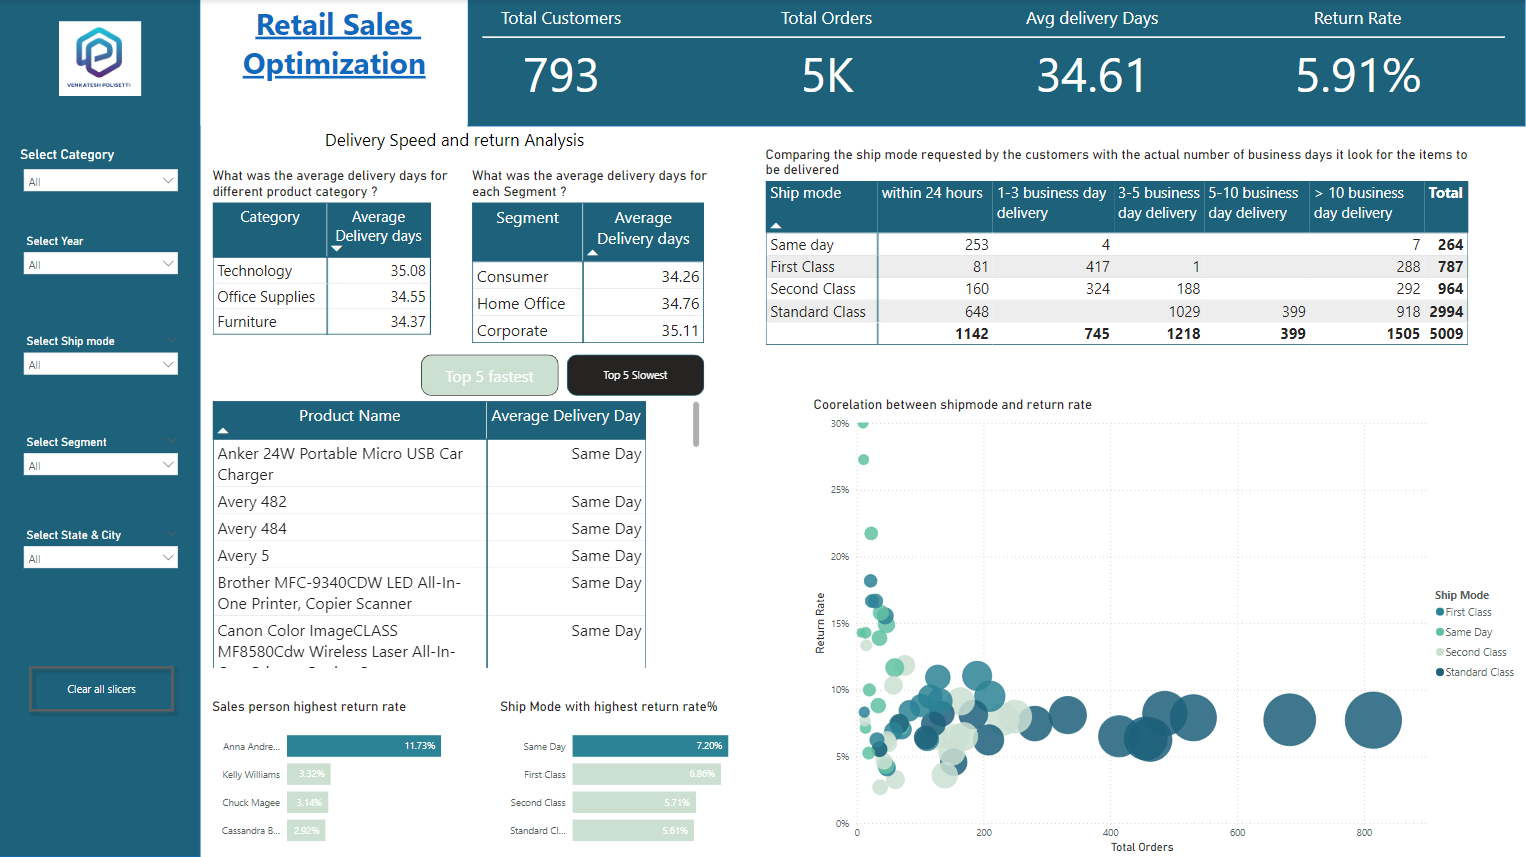

This screenshot's page, from the dashboard's own definition file:
{"tool":"powerbi","page":{"name":"Delivery and Return rate","canvas":[1920,1080],"ordinal":0},"visuals":[{"type":"shape","box":[0,0,254.4,1078.9],"z":0},{"type":"shape","box":[590.5,0,1330,160],"z":1000},{"type":"card","title":"Total Customers","fields":{"Values":["Dax measures.Total Customers"]},"box":[608.7,6.8,197.6,136.3],"z":2000},{"type":"card","title":"Total Orders","fields":{"Values":["Dax measures.Total Orders"]},"box":[942.6,6.8,197.6,136.3],"z":3000},{"type":"card","title":"Avg delivery Days","fields":{"Values":["Dax measures.Avg delivery day"]},"box":[1276.5,6.8,197.6,136.3],"z":4000},{"type":"card","title":"Return Rate","fields":{"Values":["Dax measures.Return Rate"]},"box":[1610.4,6.8,197.6,136.3],"z":5000},{"type":"shape","box":[608.7,38.6,1285.6,20.4],"z":6000},{"type":"pivotTable","title":"What was the average delivery days for different product category ?","fields":{"Values":["Dax measures.Avg delivery day"],"Rows":["Dim_Products.Category"]},"box":[263.5,211.2,315.7,236.2],"z":7000},{"type":"pivotTable","title":"What was the average delivery days for each Segment ?","fields":{"Values":["Dax measures.Avg delivery day"],"Rows":["dim_customers.Segment"]},"box":[590.5,211.2,315.7,236.2],"z":8000},{"type":"pivotTable","title":"Comparing the ship mode requested by the customers with the actual number of business days it look for the items to be delivered ","fields":{"Rows":["Ship Mode Sort.Ship mode"],"Values":["Dax measures.Total Orders"],"Columns":["Delivery Sorts.Delivery Classification "]},"box":[960.8,184,906.3,290.7],"z":9000},{"type":"pivotTable","title":"What was the average delivery days for each Segment ?","fields":{"Values":["Dax measures.Average Delivery (Custom)"],"Rows":["Dim_Products.Product Name"]},"box":[263.5,499.7,624.6,347.5],"z":10000},{"type":"scatterChart","title":"Coorelation between shipmode and return rate","fields":{"X":["Dax measures.Total Orders"],"Y":["Dax measures.Return Rate"],"Category":["Dim_Products.Sub-Category"],"Series":["Fact_Orders.Ship Mode"],"Size":["Dax measures.Total Orders"]},"box":[1019.8,499.7,899.4,579.2],"z":12000},{"type":"barChart","title":" Ship Mode with highest return rate%","fields":{"Category":["Fact_Orders.Ship Mode"],"Y":["Dax measures.Return Rate"]},"box":[626.9,879,333.9,199.9],"z":13000},{"type":"barChart","title":"Sales person highest return rate ","fields":{"Category":["Dim_RetailSalesPeople.Retail Sales People"],"Y":["Dax measures.Return Rate"]},"box":[263.5,879,345.2,199.9],"z":14000},{"type":"textbox","box":[254.4,0,336.2,159],"z":15000},{"type":"slicer","title":"Select Category","fields":{"Values":["Dim_Products.Category"]},"box":[22.7,184,213.5,56.8],"z":16000},{"type":"slicer","fields":{"Values":["Calendar Table.Year"]},"box":[22.7,290.2,213.5,77.2],"z":17000},{"type":"slicer","fields":{"Values":["Ship Mode Sort.Ship mode"]},"box":[22.7,416.8,213.5,77.2],"z":18000},{"type":"slicer","fields":{"Values":["dim_customers.Segment"]},"box":[22.7,543.4,213.5,68.1],"z":19000},{"type":"slicer","fields":{"Values":["Dim_Locations.State","Dim_Locations.City"]},"box":[22.7,661,213.5,61.3],"z":20000},{"type":"bookmarkNavigator","box":[531.5,447.4,356.6,52.2],"z":21000},{"type":"image","box":[65.9,22.7,124.9,104.5],"z":21001},{"type":"textbox","box":[397.5,156.7,352.1,52.2],"z":21002},{"type":"actionButton","box":[29.5,829,199.9,75],"z":21003}]}

Visuals, with their boxes in screenshot pixels (x1, y1, x2, y2), scaled from the page's 1920x1080 canvas onto the 1526x857 screenshot:
shape: [x1=0, y1=0, x2=202, y2=856]
shape: [x1=469, y1=0, x2=1525, y2=127]
"Total Customers" card: [x1=484, y1=5, x2=641, y2=114]
"Total Orders" card: [x1=749, y1=5, x2=906, y2=114]
"Avg delivery Days" card: [x1=1015, y1=5, x2=1172, y2=114]
"Return Rate" card: [x1=1280, y1=5, x2=1437, y2=114]
shape: [x1=484, y1=31, x2=1506, y2=47]
"What was the average delivery days for different product category ?" pivotTable: [x1=209, y1=168, x2=460, y2=355]
"What was the average delivery days for each Segment ?" pivotTable: [x1=469, y1=168, x2=720, y2=355]
"Comparing the ship mode requested by the customers with the actual number of business days it look for the items to be delivered " pivotTable: [x1=764, y1=146, x2=1484, y2=377]
"What was the average delivery days for each Segment ?" pivotTable: [x1=209, y1=397, x2=706, y2=672]
"Coorelation between shipmode and return rate" scatterChart: [x1=811, y1=397, x2=1525, y2=856]
" Ship Mode with highest return rate%" barChart: [x1=498, y1=698, x2=764, y2=856]
"Sales person highest return rate " barChart: [x1=209, y1=698, x2=484, y2=856]
textbox: [x1=202, y1=0, x2=469, y2=126]
"Select Category" slicer: [x1=18, y1=146, x2=188, y2=191]
slicer - Calendar Table.Year: [x1=18, y1=230, x2=188, y2=292]
slicer - Ship Mode Sort.Ship mode: [x1=18, y1=331, x2=188, y2=392]
slicer - dim_customers.Segment: [x1=18, y1=431, x2=188, y2=485]
slicer - Dim_Locations.State x Dim_Locations.City: [x1=18, y1=525, x2=188, y2=573]
bookmarkNavigator: [x1=422, y1=355, x2=706, y2=396]
image: [x1=52, y1=18, x2=152, y2=101]
textbox: [x1=316, y1=124, x2=596, y2=166]
actionButton: [x1=23, y1=658, x2=182, y2=717]
